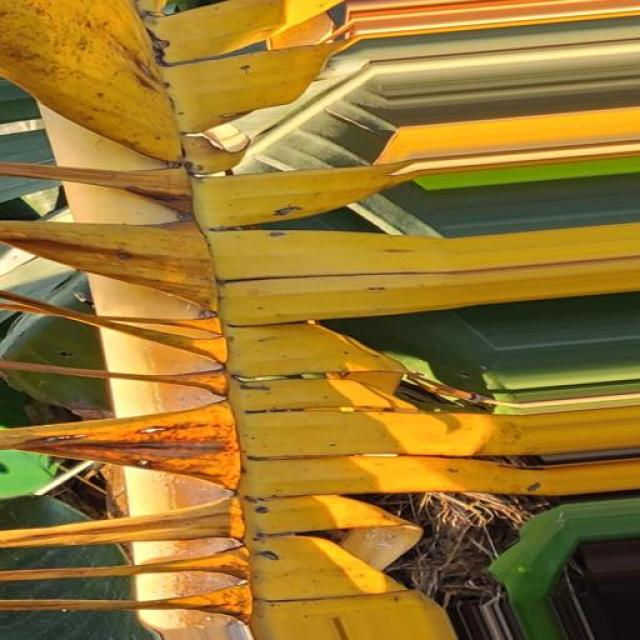Cordana: (0, 0, 522, 639)
